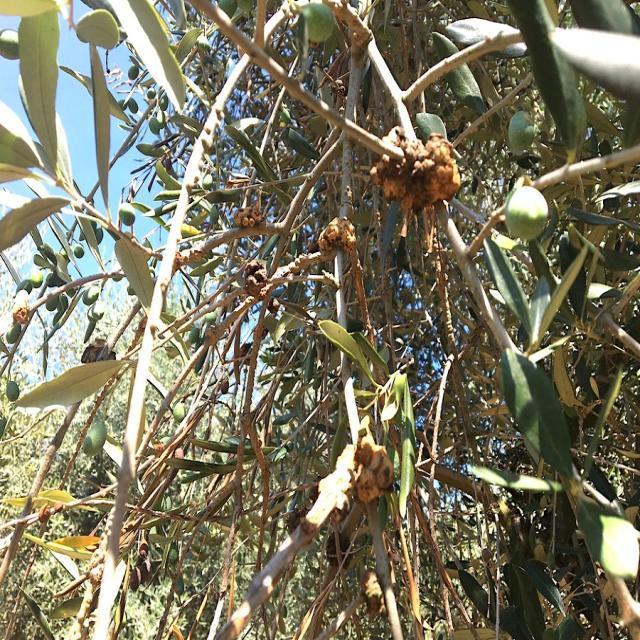Tuberculosis: (370, 126, 460, 216), (355, 436, 394, 502), (318, 217, 354, 255), (242, 260, 270, 300), (234, 208, 263, 226)
